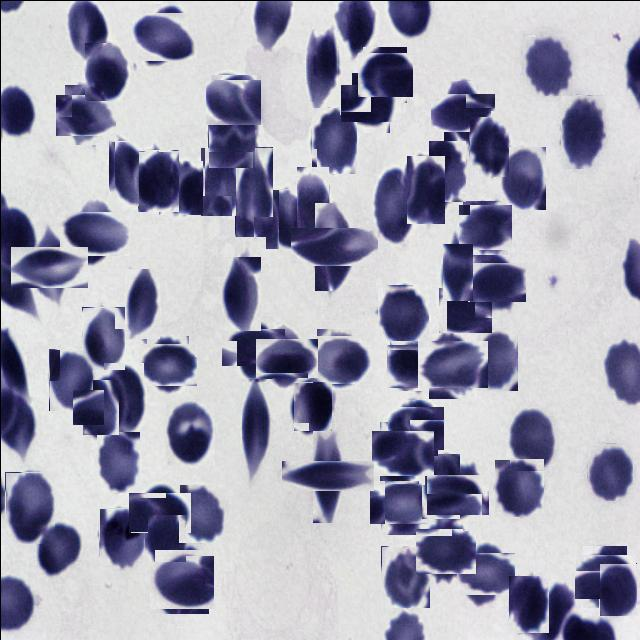red blood cell: (302, 215, 364, 278), (296, 444, 358, 506), (4, 471, 54, 543), (19, 237, 79, 296), (423, 333, 482, 392), (372, 170, 417, 245), (152, 552, 210, 610), (560, 94, 605, 168), (235, 146, 272, 236), (65, 204, 122, 262), (135, 7, 192, 64), (165, 401, 214, 465), (522, 34, 572, 96), (310, 106, 356, 173), (377, 284, 428, 344), (242, 382, 272, 484), (509, 405, 556, 470), (380, 546, 429, 608), (313, 331, 368, 386), (375, 474, 429, 528), (374, 426, 428, 480), (493, 458, 543, 516), (499, 146, 545, 209), (221, 256, 260, 330), (296, 166, 328, 254), (418, 524, 471, 577), (103, 362, 143, 431), (578, 550, 630, 603), (48, 348, 92, 410), (178, 483, 224, 542), (81, 306, 124, 369), (436, 86, 488, 138), (432, 468, 484, 520), (199, 146, 238, 215), (586, 442, 632, 500), (84, 42, 130, 100), (133, 487, 185, 538), (96, 431, 139, 492), (36, 520, 82, 577), (475, 328, 517, 390), (459, 548, 510, 599), (207, 112, 254, 167), (406, 155, 444, 223), (265, 188, 308, 248), (60, 89, 110, 140), (228, 321, 278, 372), (261, 332, 312, 382), (137, 150, 178, 212), (142, 340, 192, 390), (440, 284, 490, 334), (460, 202, 510, 252), (359, 49, 409, 99), (390, 402, 440, 452), (208, 76, 258, 126), (421, 453, 459, 518), (124, 268, 159, 338), (468, 115, 508, 176), (472, 256, 520, 306), (158, 160, 202, 214), (346, 77, 394, 126), (306, 29, 338, 101), (508, 575, 548, 632), (428, 140, 465, 201), (108, 140, 142, 205), (388, 342, 434, 388), (77, 384, 123, 429), (598, 562, 636, 615), (292, 380, 331, 430), (147, 514, 185, 561), (442, 243, 472, 300)
trophozoite: (98, 507, 144, 570)
